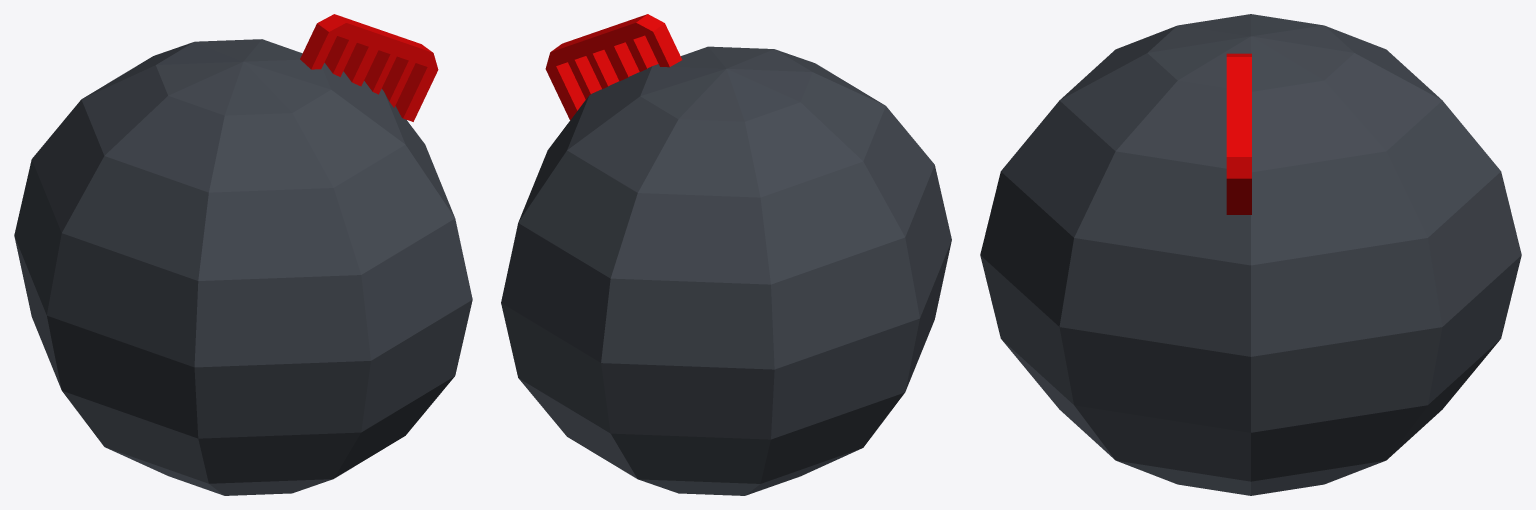
Rendered from hair4.fbx.
The picture shows the model from 3 angles, left to right: view 1: azimuth 30°, elevation 25°; view 2: azimuth 150°, elevation 25°; view 3: azimuth 270°, elevation 25°; orthographic projection. The views are drawn at different scales.
Parts seen in each view (by area): view 1: pasted__pSphere1, pasted__pSphere2, pCube12; view 2: pasted__pSphere1, pasted__pSphere2, pCube12; view 3: pasted__pSphere2, pasted__pSphere1, pCube12.
Boxes of the visible parts, bbox=[...] form: pasted__pSphere1: bbox=[14, 41, 370, 495]; pasted__pSphere2: bbox=[195, 39, 472, 478]; pCube12: bbox=[300, 14, 438, 121]; pasted__pSphere1: bbox=[601, 49, 951, 495]; pasted__pSphere2: bbox=[501, 46, 773, 478]; pCube12: bbox=[545, 14, 682, 120]; pasted__pSphere2: bbox=[980, 36, 1521, 495]; pasted__pSphere1: bbox=[1060, 14, 1441, 99]; pCube12: bbox=[1226, 53, 1251, 214].
Size of the model in its own units: 3.46 by 3.68 by 3.89.
